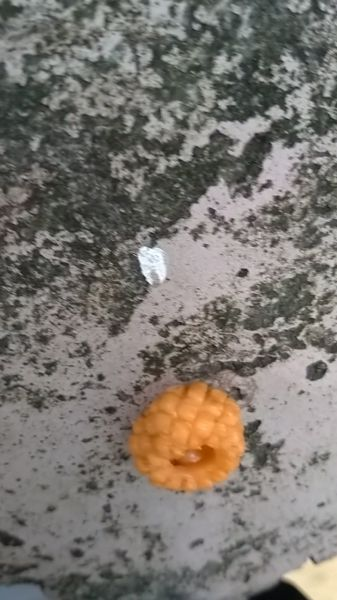eggs: (120, 375, 252, 496)
